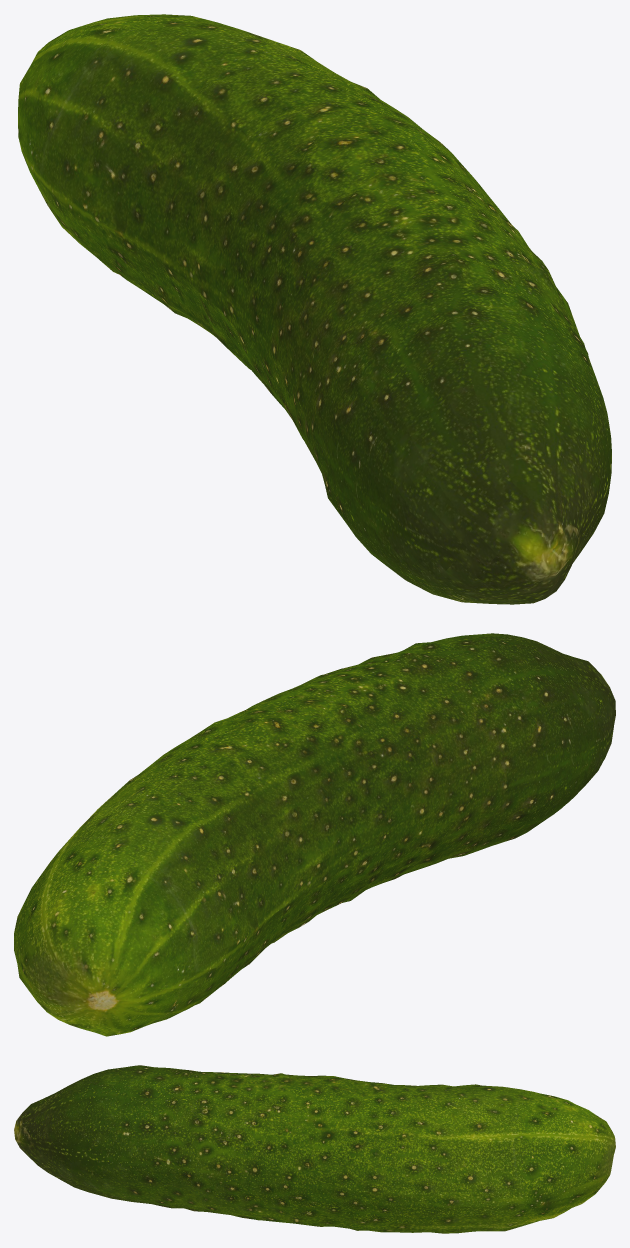
3 renders of one model, top to bottom at view 1: azimuth 30°, elevation 25°; view 2: azimuth 150°, elevation 25°; view 3: azimuth 270°, elevation 25°, orthographic. The views are drawn at different scales.
Visible parts, largest first — view 1: n1; view 2: n1; view 3: n1.
Part boxes in pixels (x1=…): n1: x1=18, y1=14, x2=611, y2=604; n1: x1=14, y1=633, x2=615, y2=1036; n1: x1=14, y1=1065, x2=615, y2=1233.
Bounding box in the file's own units: 0.3171 × 0.2222 × 0.9.
Materials: 1 (1 with a texture image).
